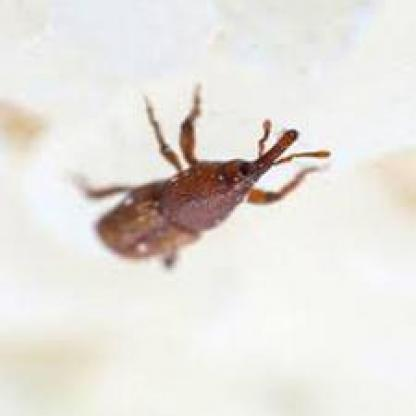rice-bug: (98, 108, 300, 264)
